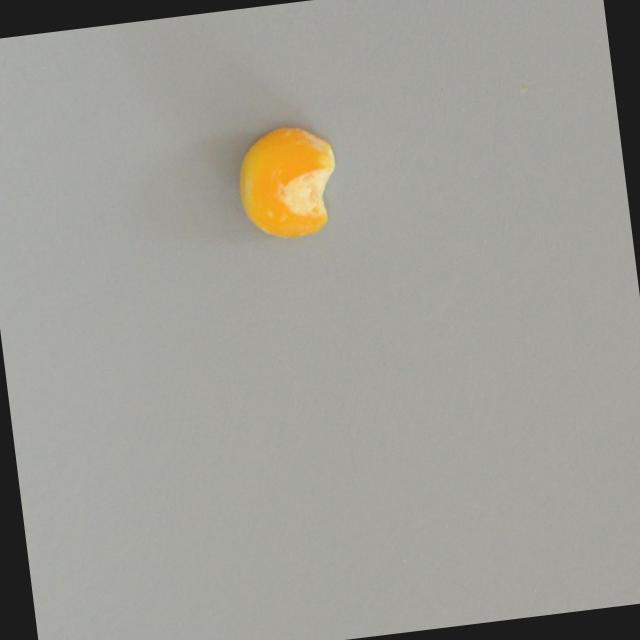no_desgerminado: (229, 113, 347, 246)
